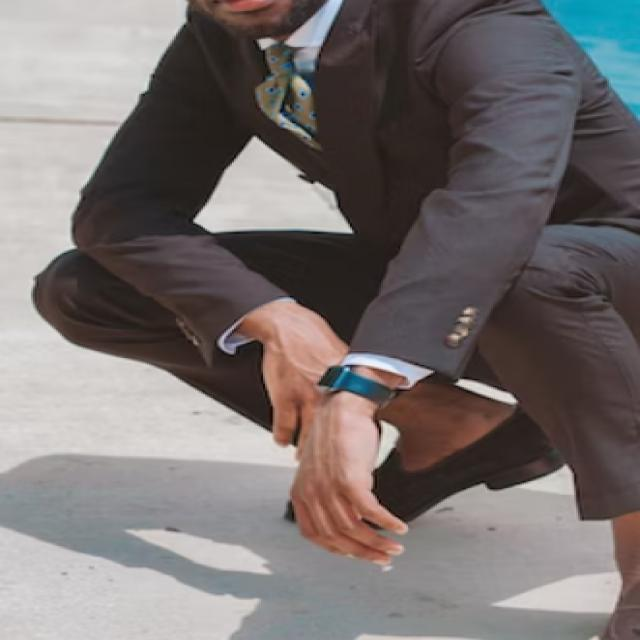Watch: (312, 362, 399, 410)
